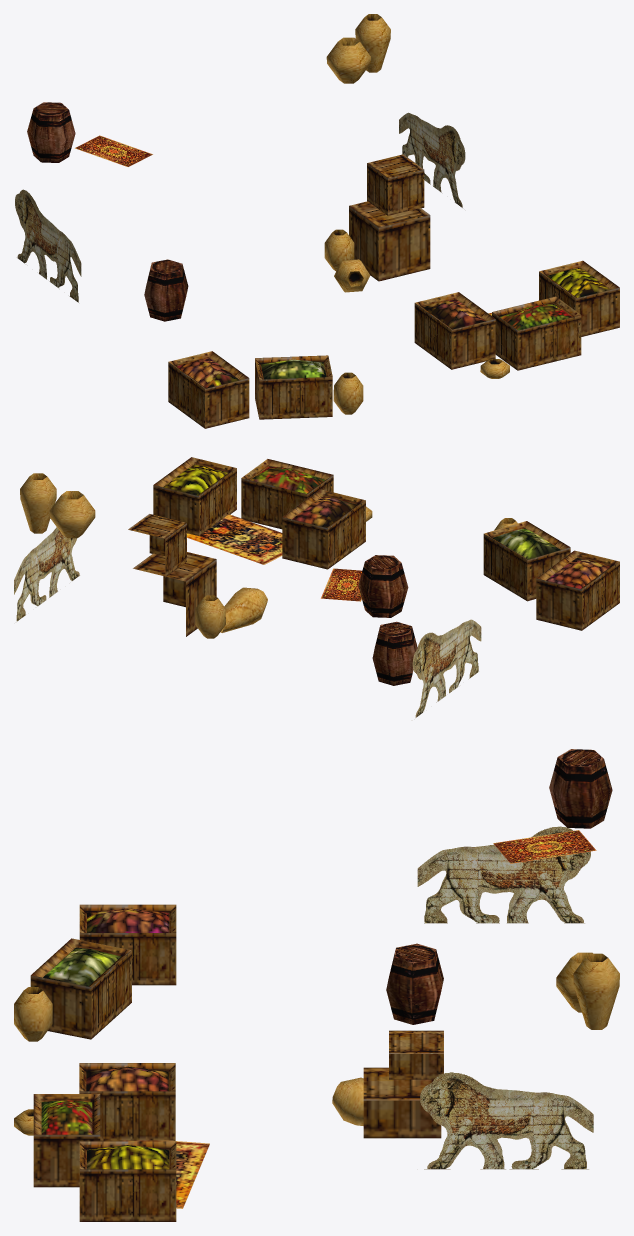
The model's file is pers_market_props_a.dae.
3 renders of one model, top to bottom at view 1: azimuth 30°, elevation 25°; view 2: azimuth 150°, elevation 25°; view 3: azimuth 270°, elevation 25°, orthographic. The views are drawn at different scales.
Visible parts, largest first — view 1: Object17-Pivot; view 2: Object17-Pivot; view 3: Object17-Pivot.
Boxes of the visible parts, x1,y1,x2,y2 form: Object17-Pivot: [15, 14, 619, 428]; Object17-Pivot: [14, 457, 619, 717]; Object17-Pivot: [14, 749, 619, 1221].
Bounding box in the file's own units: 17.1 × 16.54 × 7.08.
